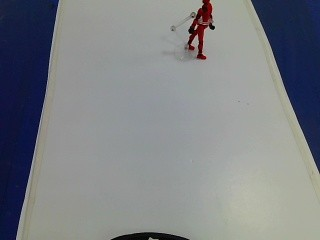pedestrian: (180, 0, 222, 63)
